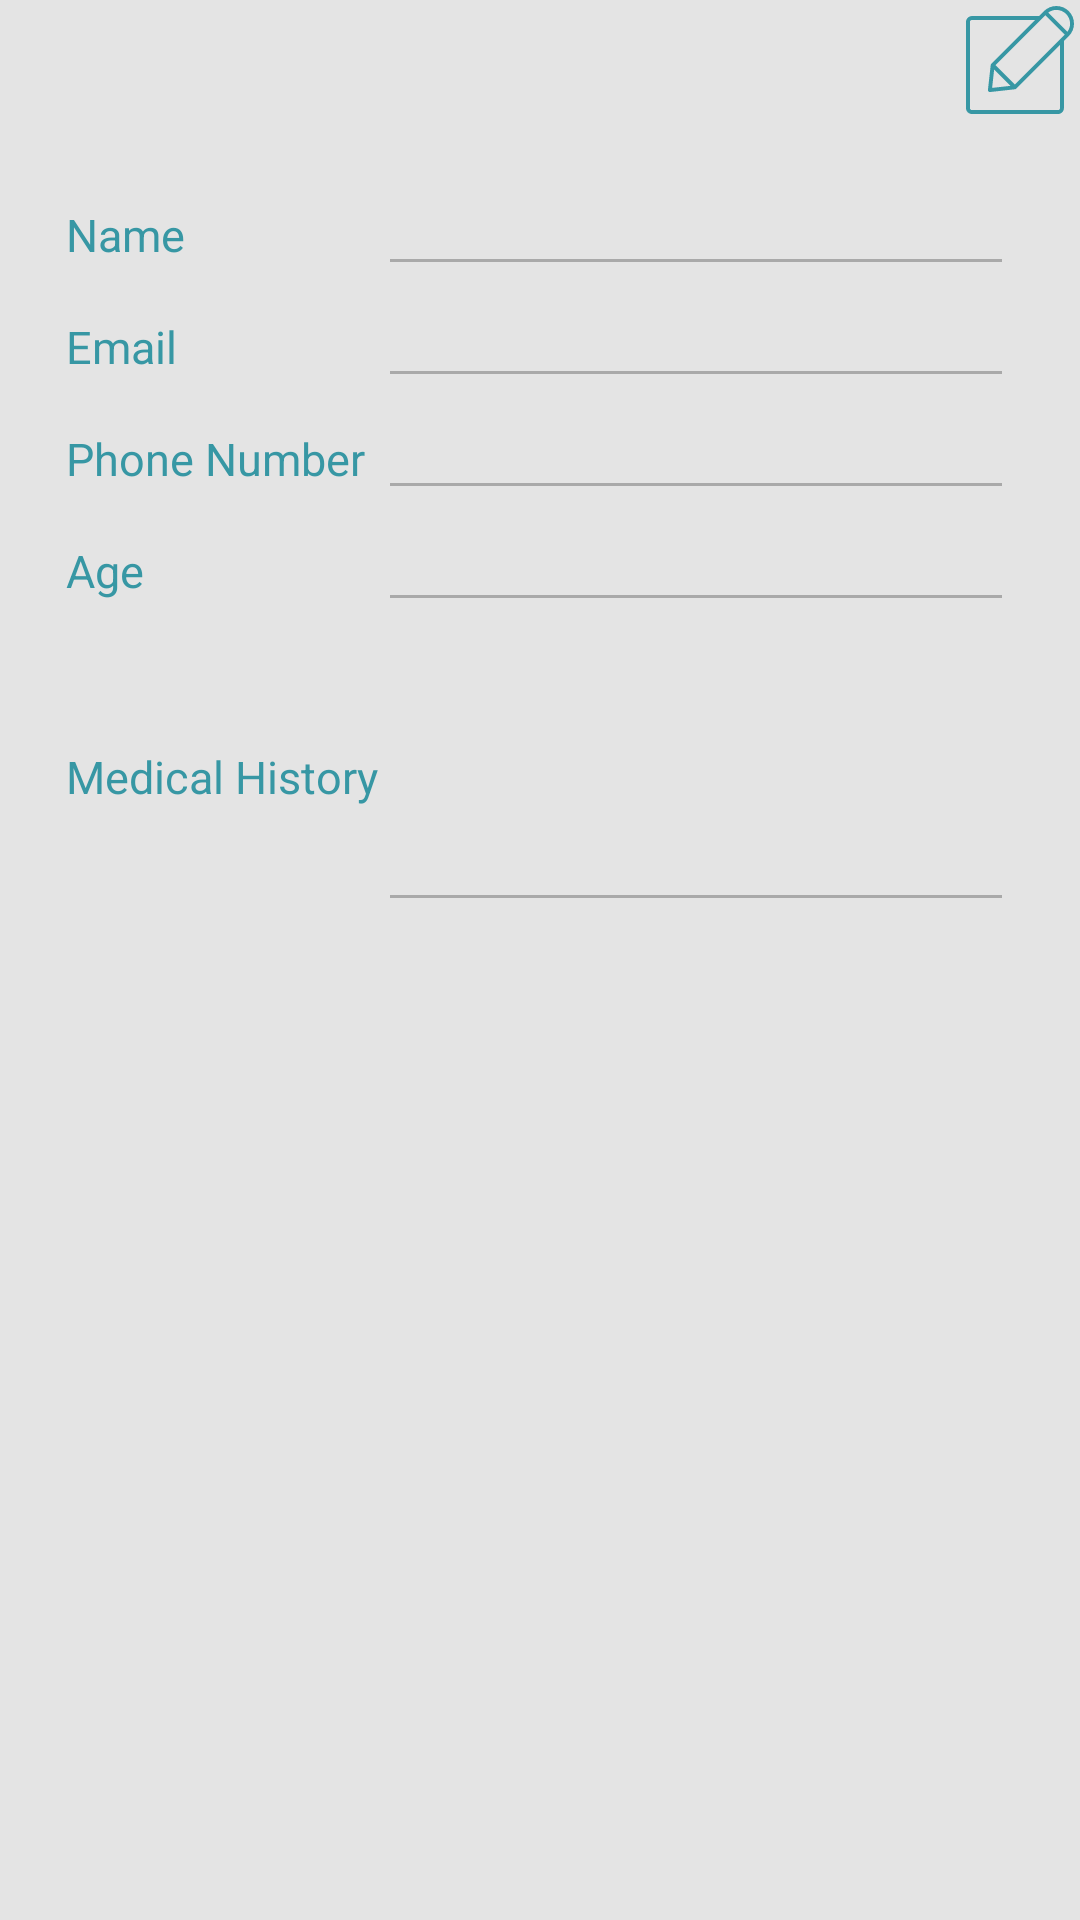

Icons on this 1080 × 1920 Android screen, each with the point to tap as point (x, y):
edit: point (1020, 60)
